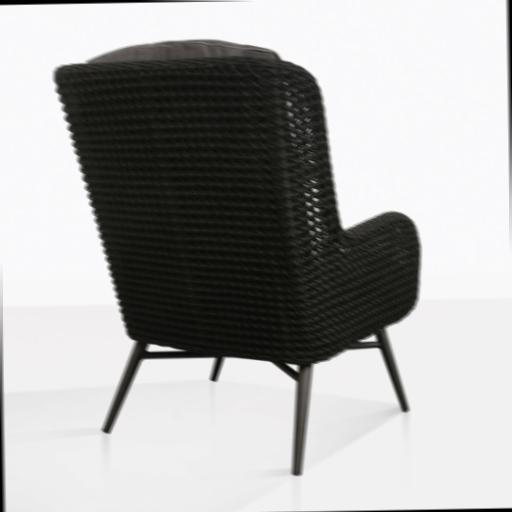chair: (52, 35, 426, 480)
